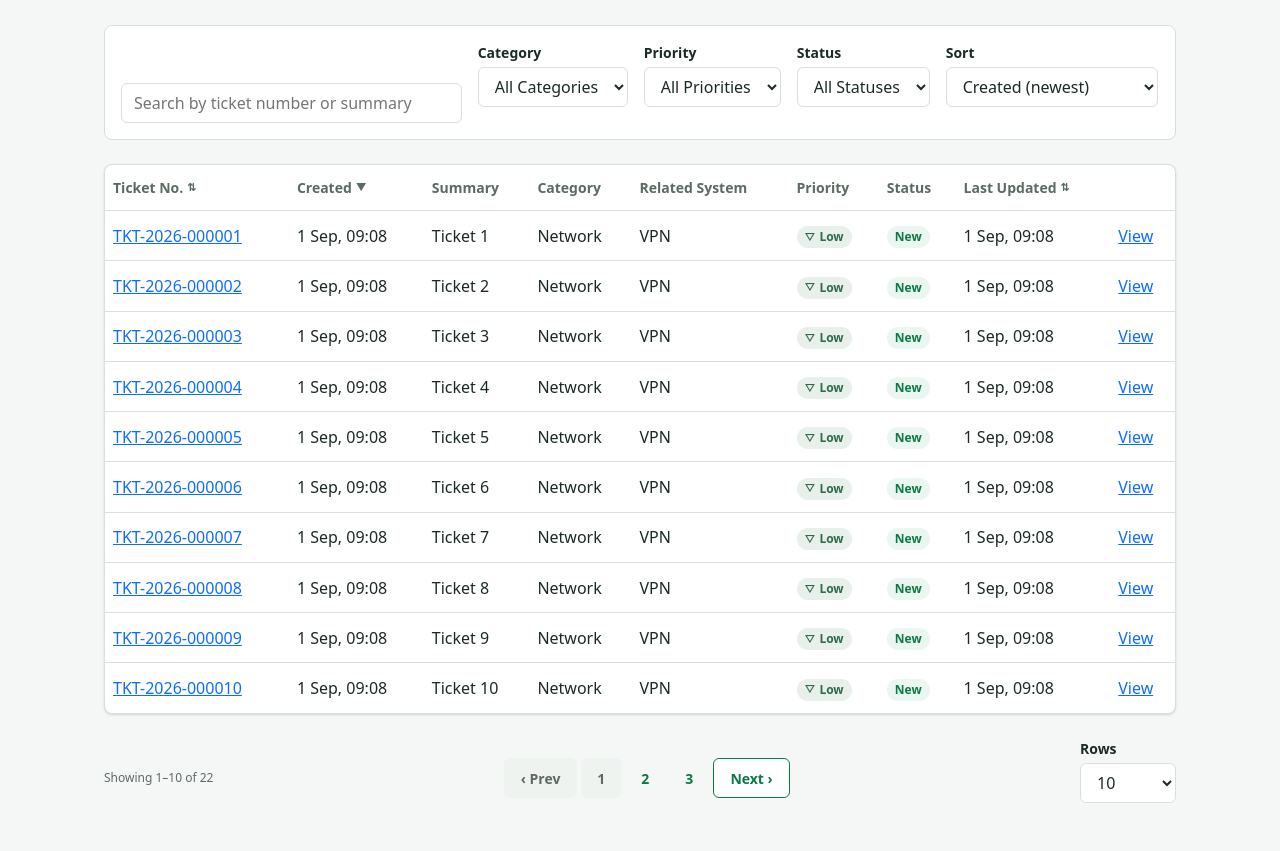
Test: C-24 My Tickets pagination › Next fetches page 2, 'Showing a-b of total' comes from meta, and Prev is disabled only on page 1
The image size is (1280, 851).
(page scrolled)
Check: the table is shown, box [105,165,1175,713]
Check: the text "Showing 1–10 of 22" is shown, box [104,769,214,787]
Click the button "Next ›". click: (752, 778)
box: [713,758,790,798]
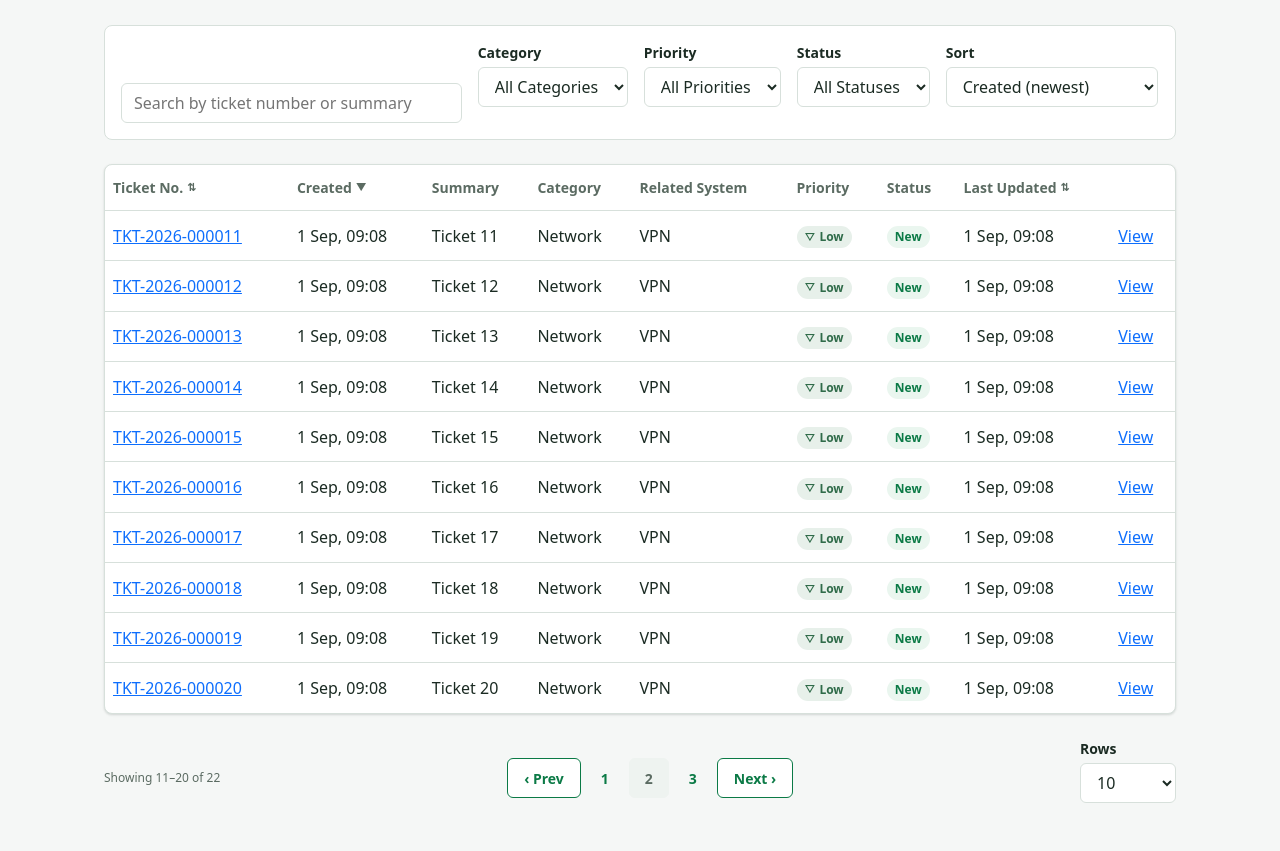
Check: the table is shown, box [105,165,1175,713]
Check: the text "Showing 11–20 of 22" is shown, box [104,769,220,787]
Check: the button "‹ Prev" is enabled, box [507,758,581,798]
Click the button named "Page 1". click: (605, 778)
box: [585,758,625,798]
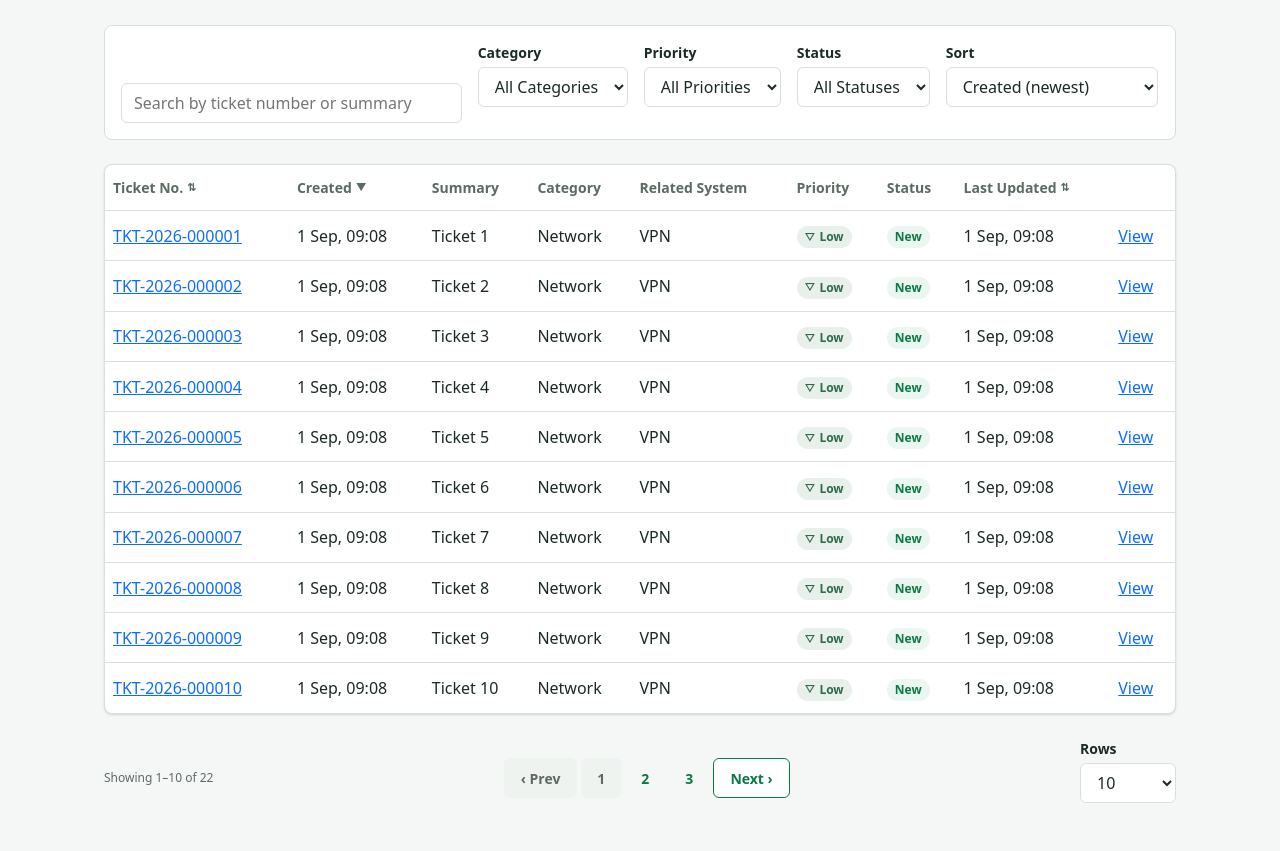
Check: the table is shown, box [105,165,1175,713]
Check: the button "‹ Prev" is disabled, box [504,758,577,798]
